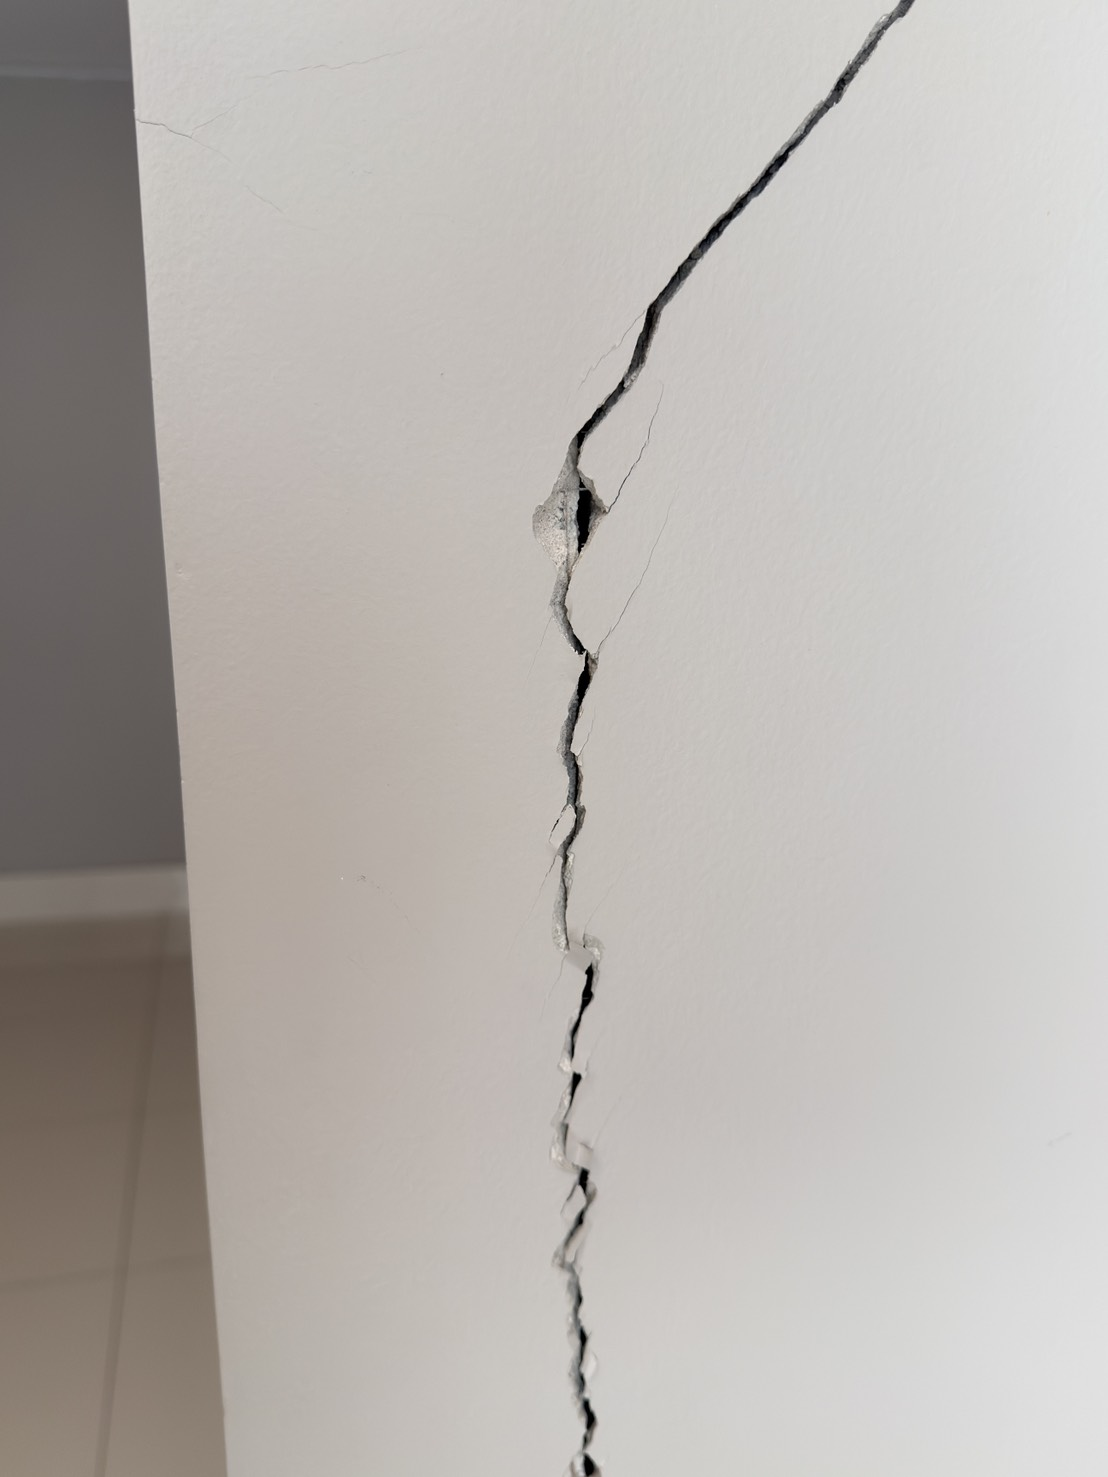Medium: (395, 48, 888, 1460)
